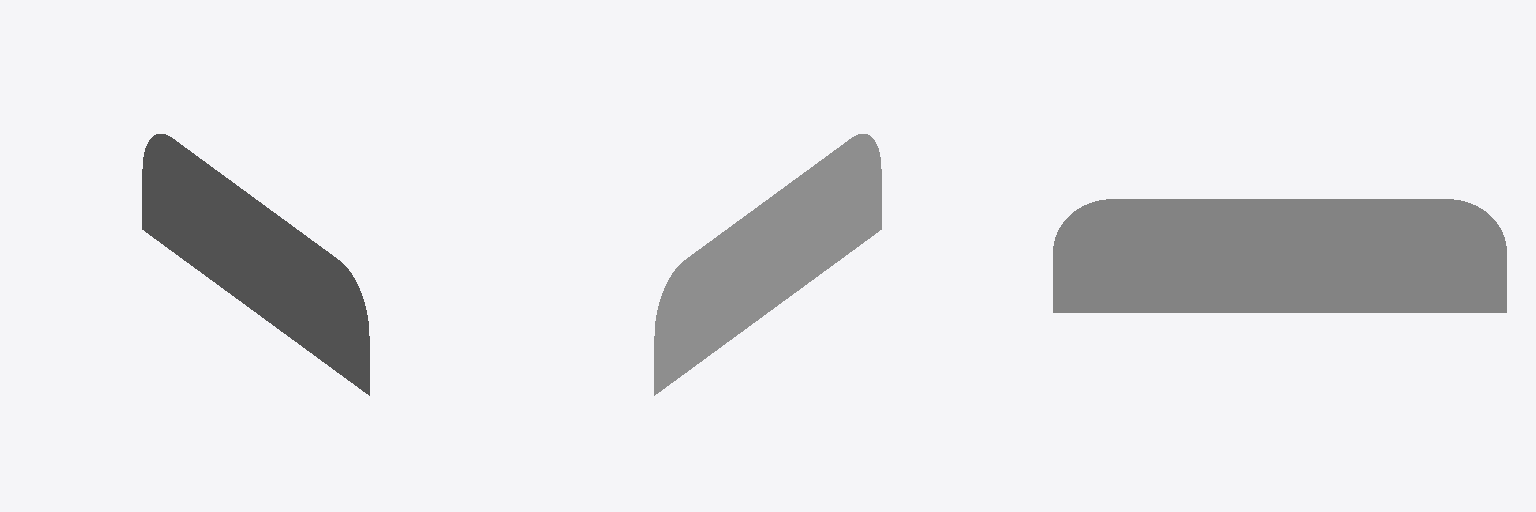
Rendered from original-13.obj.
3 views of the same model, side by side, from view 1: azimuth 30°, elevation 25°; view 2: azimuth 150°, elevation 25°; view 3: azimuth 270°, elevation 25° (orthographic).
Parts seen in each view (by area): view 1: Obj_000013_1/Obj_000013/mesh13/mesh13-geometry#mesh13-geometry; view 2: Obj_000013_1/Obj_000013/mesh13/mesh13-geometry#mesh13-geometry; view 3: Obj_000013_1/Obj_000013/mesh13/mesh13-geometry#mesh13-geometry.
Boxes of the visible parts, x1=… form: Obj_000013_1/Obj_000013/mesh13/mesh13-geometry#mesh13-geometry: x1=142, y1=134, x2=369, y2=395; Obj_000013_1/Obj_000013/mesh13/mesh13-geometry#mesh13-geometry: x1=654, y1=134, x2=881, y2=395; Obj_000013_1/Obj_000013/mesh13/mesh13-geometry#mesh13-geometry: x1=1053, y1=199, x2=1506, y2=312.
Bounding box in the file's own units: 0 × 0.1121 × 0.4058.